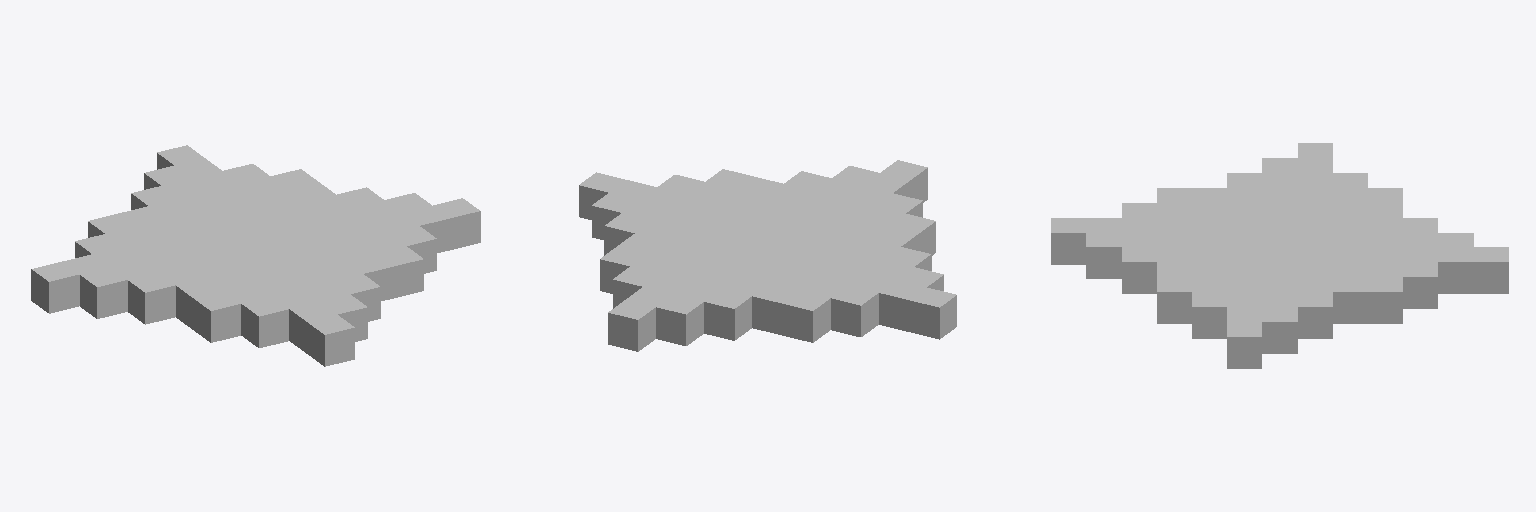
Rendered from circular_saw.obj.
The picture shows the model from 3 angles: view 1: azimuth 30°, elevation 25°; view 2: azimuth 150°, elevation 25°; view 3: azimuth 270°, elevation 25°; orthographic projection.
Size of the model in its own units: 13 by 1 by 13.